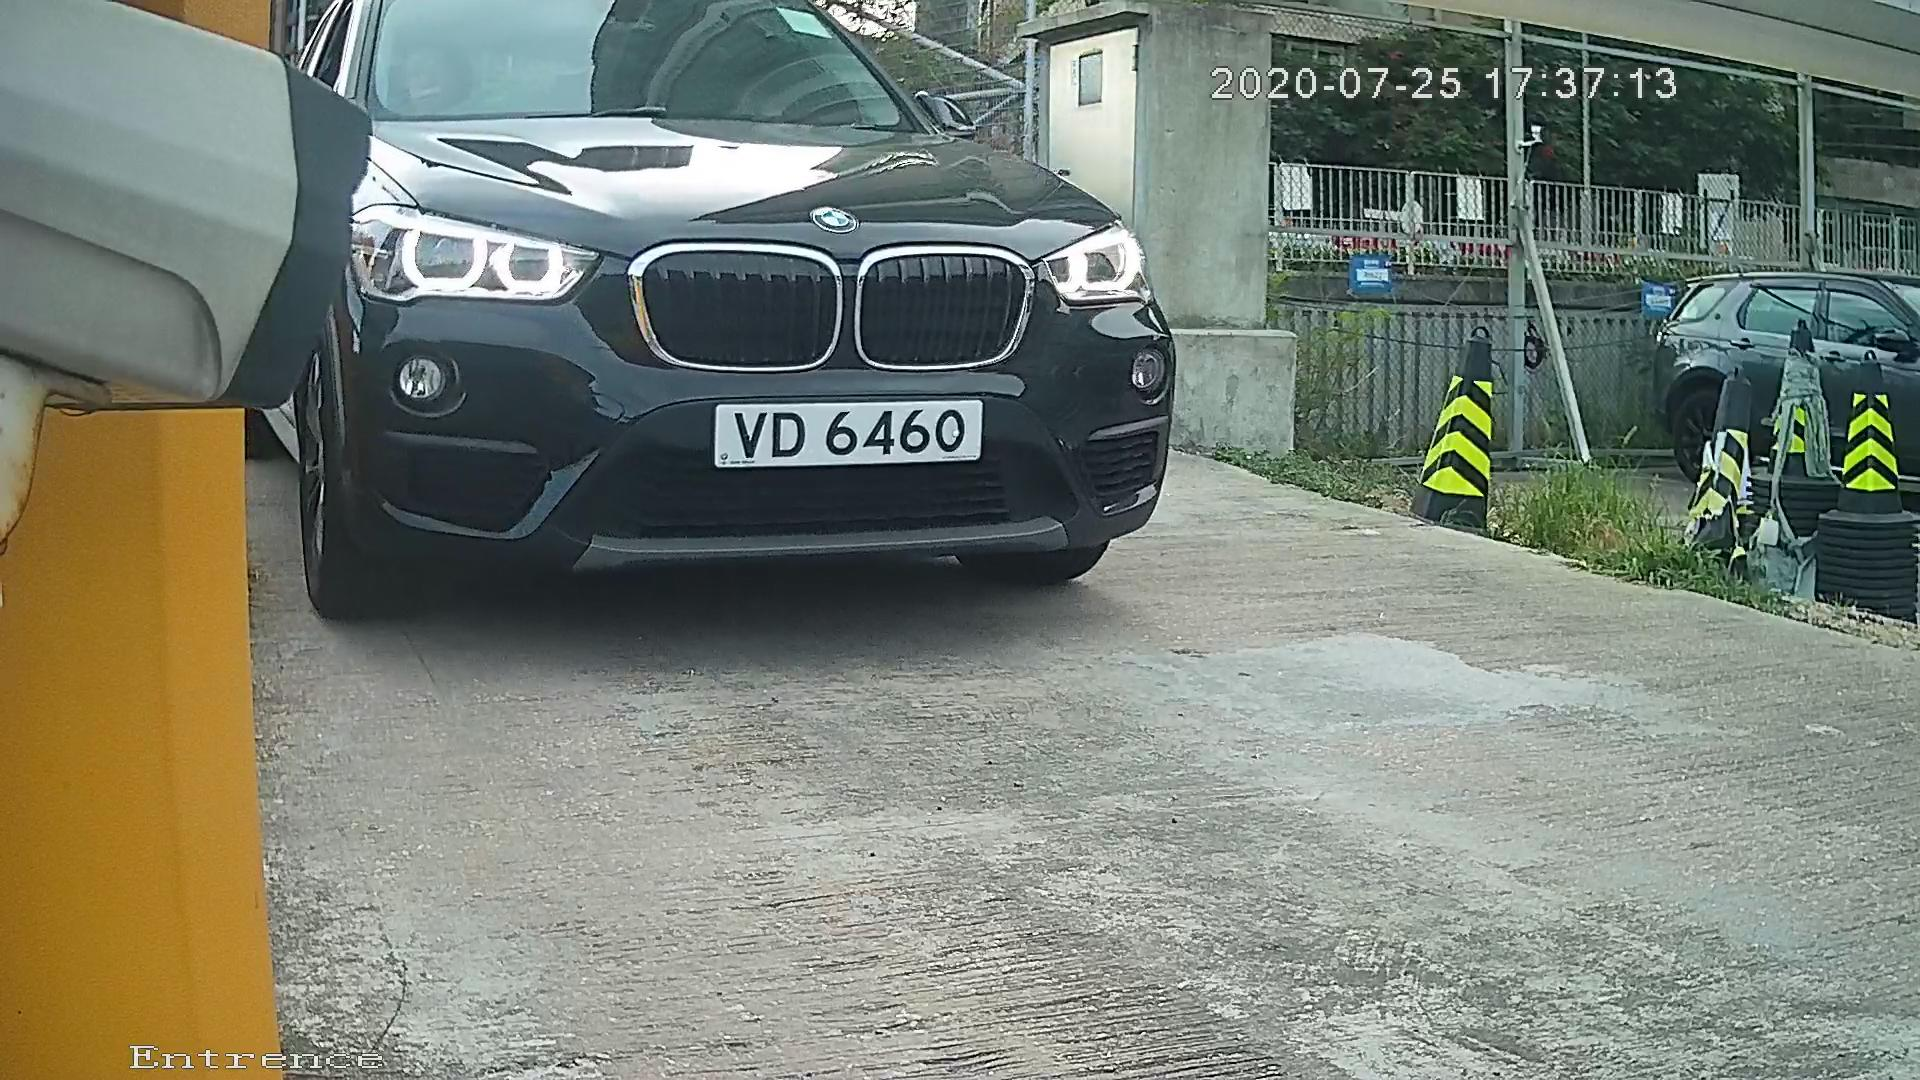Car: (112, 1, 1243, 647)
License Plate: (686, 386, 1003, 483)
